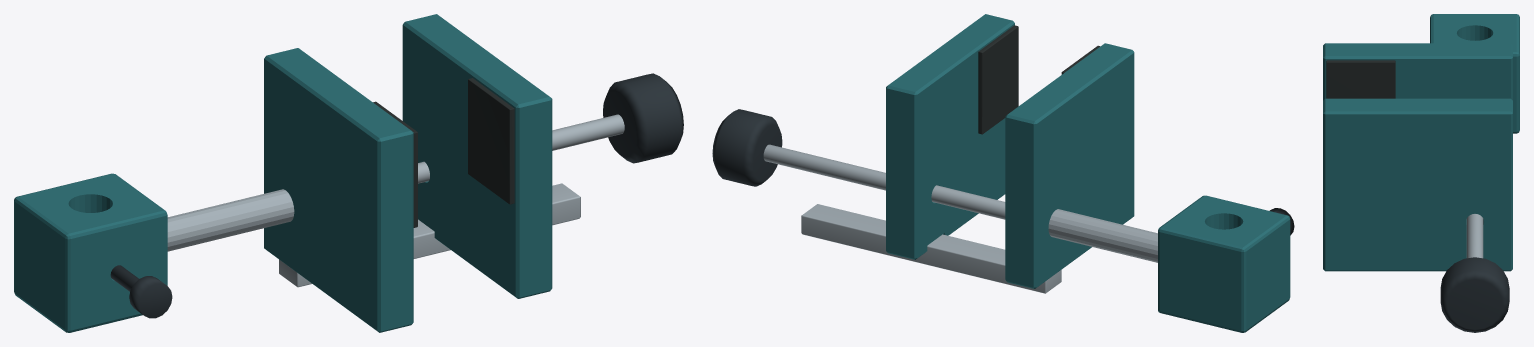
Rendered from VLAB_clamp.fbx.
The picture shows the model from 3 angles, left to right: view 1: azimuth 30°, elevation 25°; view 2: azimuth 150°, elevation 25°; view 3: azimuth 270°, elevation 25°; orthographic projection. The views are drawn at different scales.
Parts seen in each view (by area): view 1: VLAB_clamp_JawLeft_VIS, VLAB_clamp_JawRight_VIS, VLAB_clamp_Boss_VIS, VLAB_clamp_Screw_VIS, VLAB_clamp_BossLock_VIS; view 2: VLAB_clamp_Boss_VIS, VLAB_clamp_JawLeft_VIS, VLAB_clamp_JawRight_VIS, VLAB_clamp_Screw_VIS; view 3: VLAB_clamp_JawRight_VIS, VLAB_clamp_JawLeft_VIS, VLAB_clamp_Screw_VIS, VLAB_clamp_Boss_VIS.
Part boxes in pixels (<box>): VLAB_clamp_JawLeft_VIS: <box>264,48,417,332</box>; VLAB_clamp_JawRight_VIS: <box>402,14,552,298</box>; VLAB_clamp_Boss_VIS: <box>14,173,580,332</box>; VLAB_clamp_Screw_VIS: <box>418,73,683,183</box>; VLAB_clamp_BossLock_VIS: <box>110,265,172,318</box>; VLAB_clamp_Boss_VIS: <box>801,195,1290,332</box>; VLAB_clamp_JawLeft_VIS: <box>1005,43,1134,288</box>; VLAB_clamp_JawRight_VIS: <box>886,14,1018,259</box>; VLAB_clamp_Screw_VIS: <box>712,109,1005,219</box>; VLAB_clamp_JawRight_VIS: <box>1323,98,1512,271</box>; VLAB_clamp_JawLeft_VIS: <box>1323,43,1512,100</box>; VLAB_clamp_Screw_VIS: <box>1440,214,1509,332</box>; VLAB_clamp_Boss_VIS: <box>1430,14,1519,133</box>.
Size of the model in its own units: 0.172 by 0.055 by 0.057.
